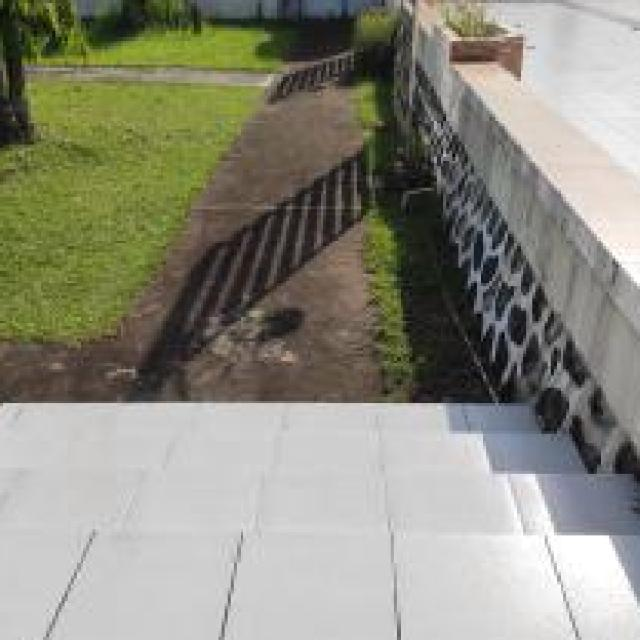downstair: (1, 401, 640, 640)
